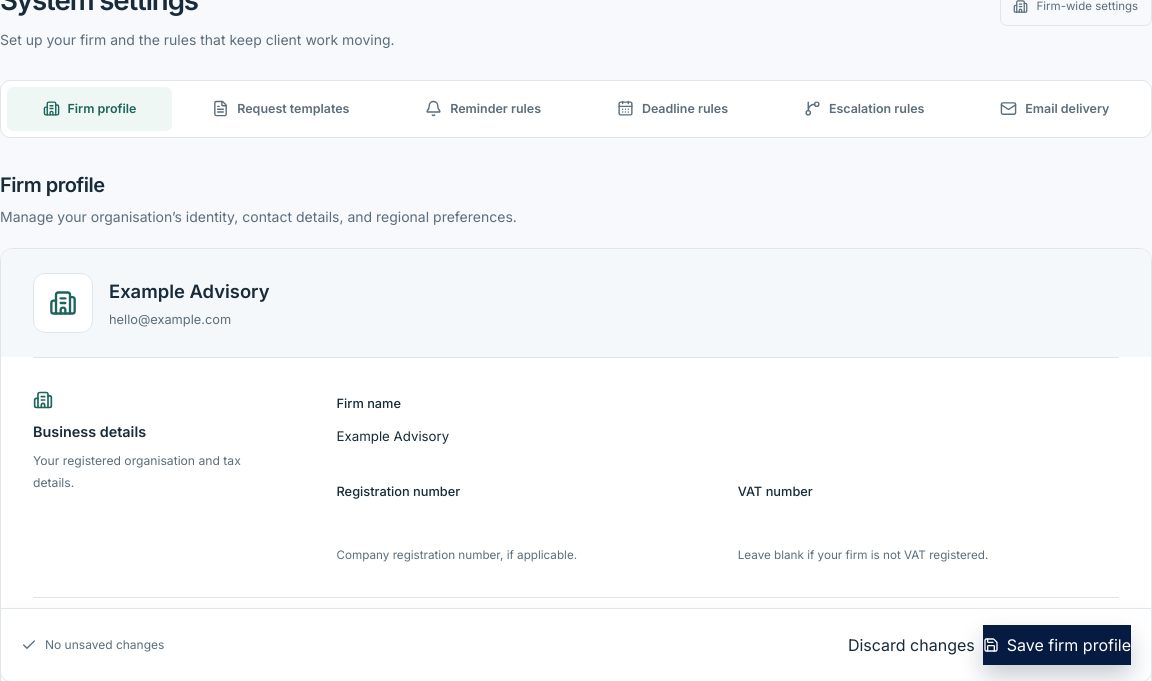
Test: system settings › keeps failed saves editable and allows discarding a removal
Check: the field labelled "Firm name" is shown, box [336, 414, 1119, 458]
Click the button "Request templates": (281, 109) [176, 87, 385, 131]
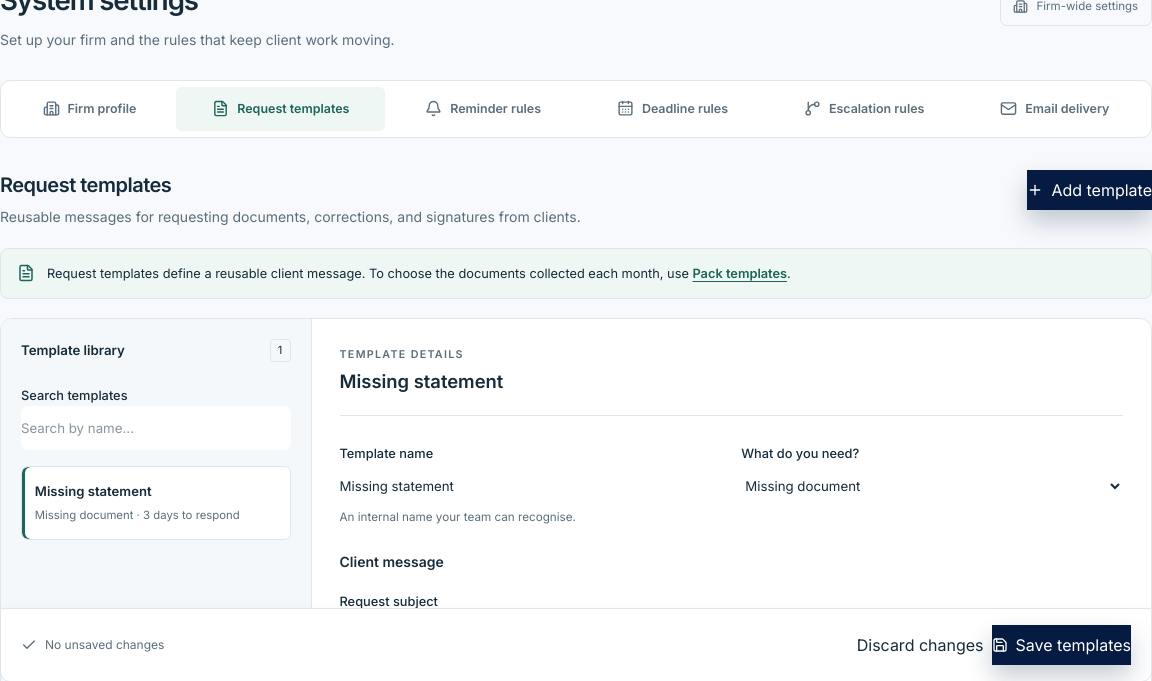
Replace the text in the field labelled "Template name An internal name your team can recognise." with "Unsaved name": (530, 486) [340, 464, 721, 508]
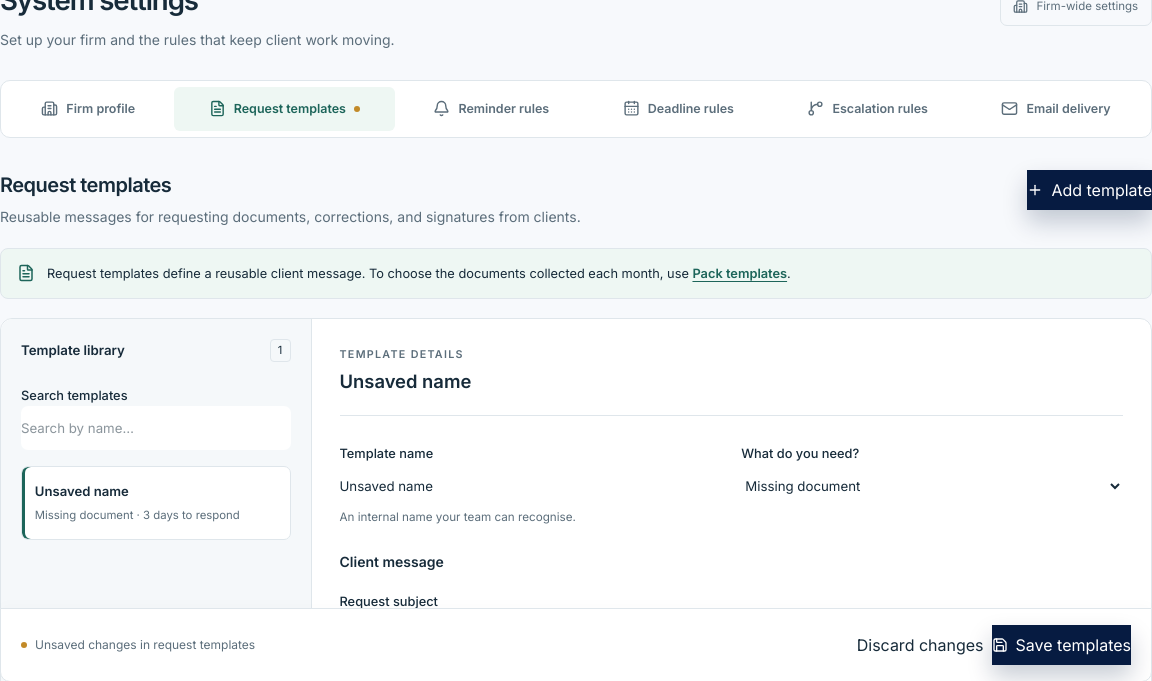
Click the button "Save templates": (1061, 645) [992, 625, 1131, 665]
(page scrolled)
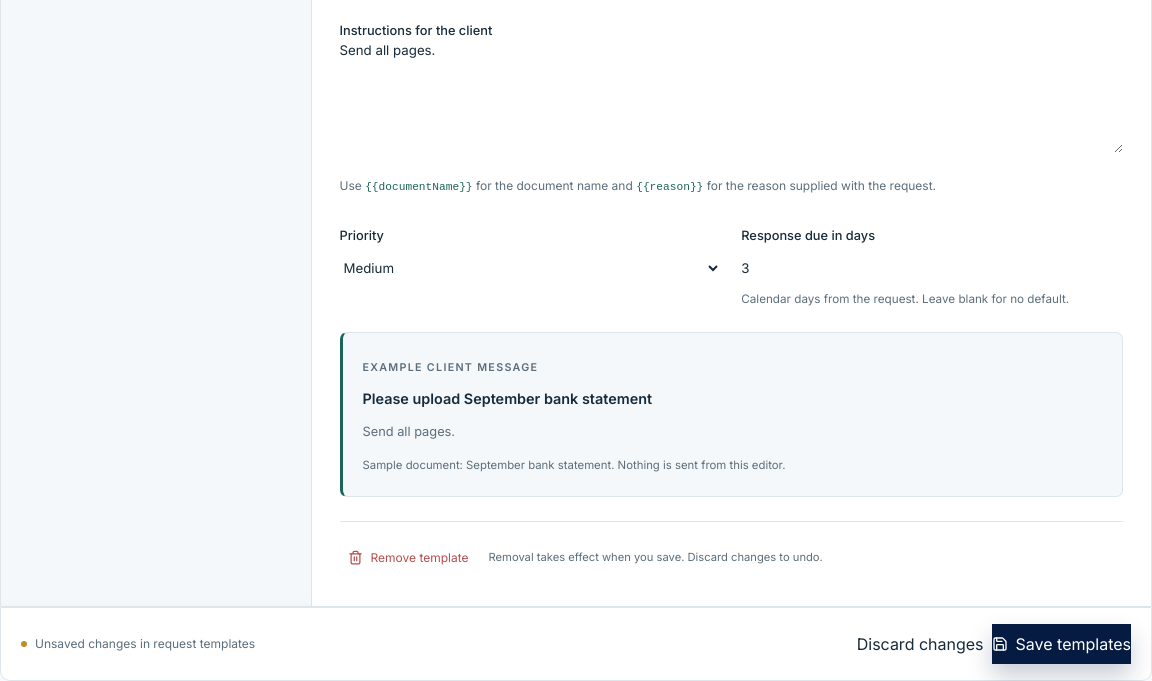
Click the button "Remove template": (408, 558) [340, 538, 476, 578]
(page scrolled)
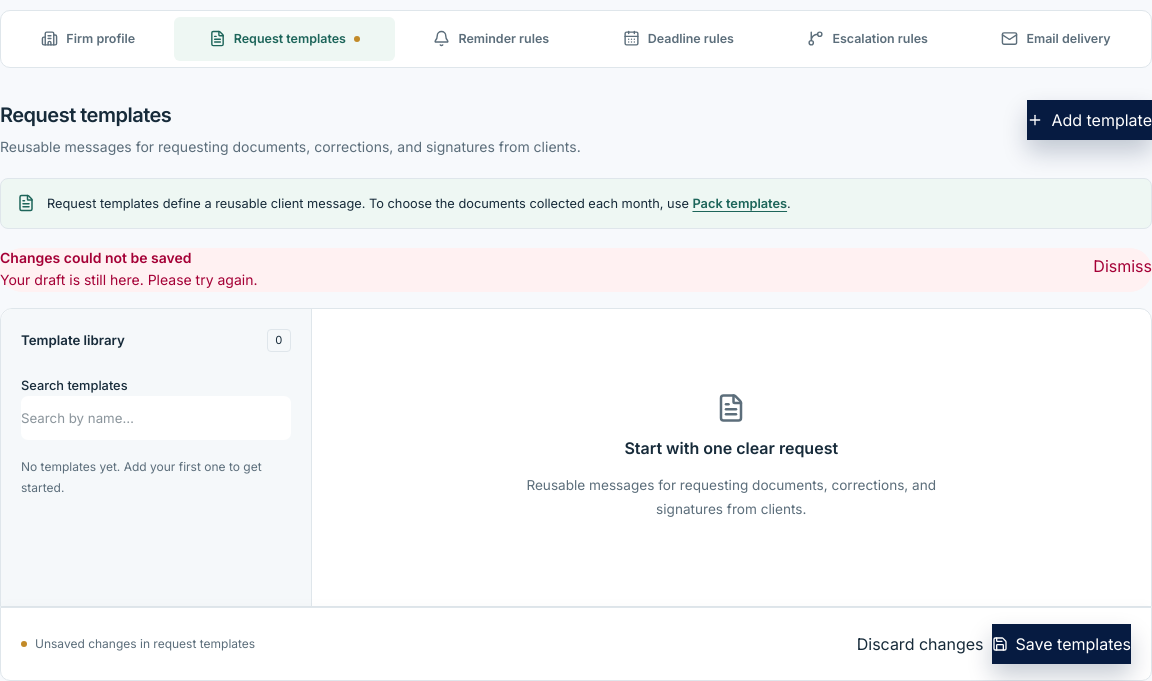
Check: the text labelled "Template name" is not shown
Click the button "Discard changes": (920, 644) [857, 624, 984, 664]
(page scrolled)
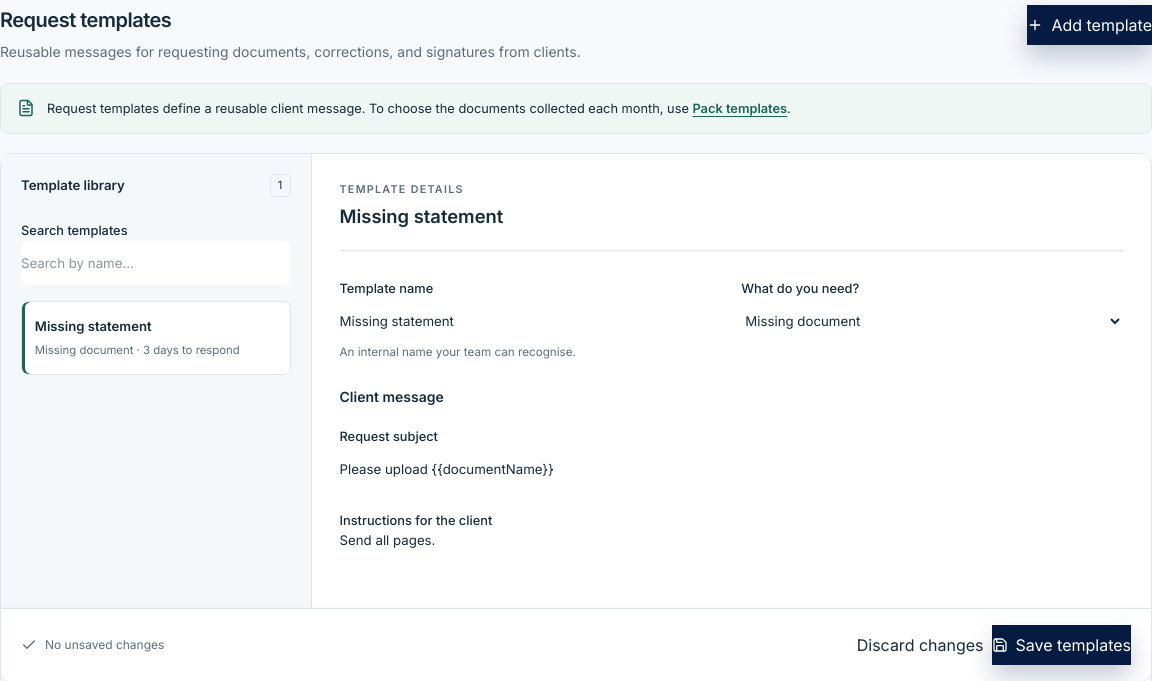
Check: the field labelled "Template name An internal name your team can recognise." holds "Missing statement", box [340, 299, 721, 343]
